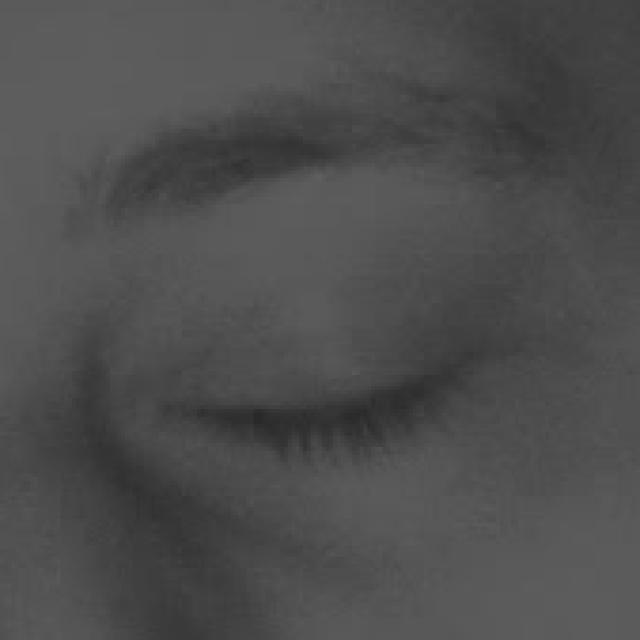Eyeclosed: (182, 271, 468, 580)
